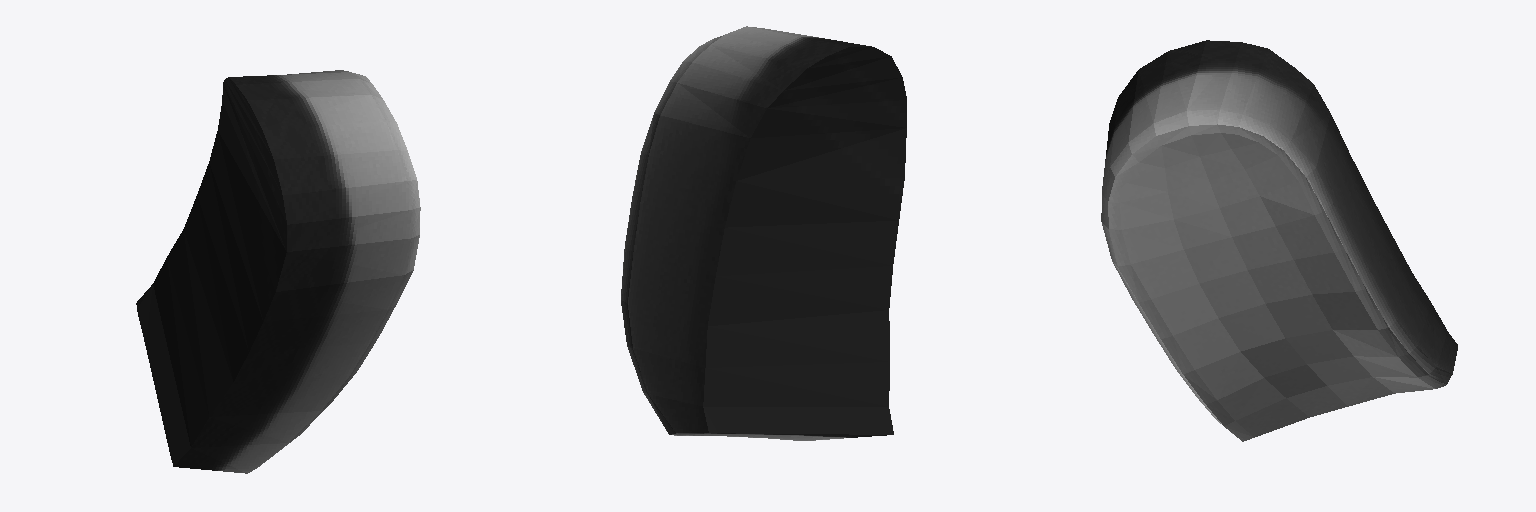
3 renders of one model, left to right at view 1: azimuth 30°, elevation 25°; view 2: azimuth 150°, elevation 25°; view 3: azimuth 270°, elevation 25°, orthographic.
Parts seen in each view (by area): view 1: oculus_quest2_controller_left_grip; view 2: oculus_quest2_controller_left_grip; view 3: oculus_quest2_controller_left_grip.
Part boxes in pixels (x1,y1,x2,y2): oculus_quest2_controller_left_grip: (136,70,420,473); oculus_quest2_controller_left_grip: (621,26,906,440); oculus_quest2_controller_left_grip: (1101,40,1457,441).
Bounding box in the file's own units: 0.0146 × 0.026 × 0.0216.
1 materials, 1 textured.